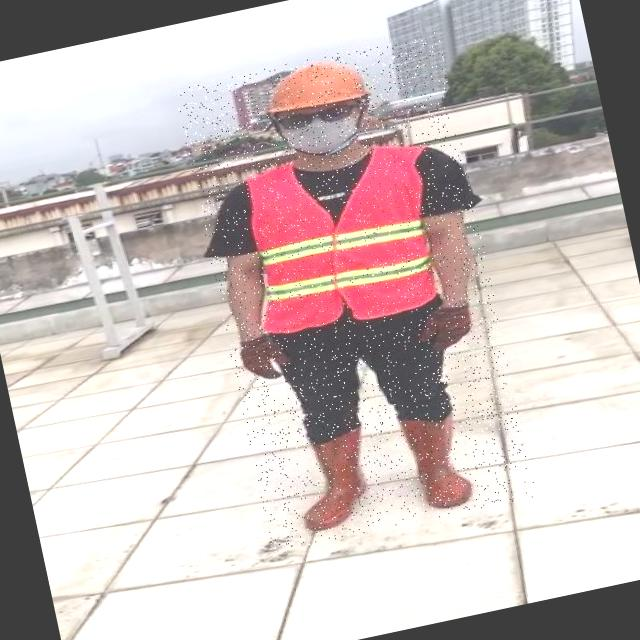boots: (286, 420, 388, 534), (397, 406, 478, 513)
helmet: (252, 52, 373, 122)
vest: (238, 132, 459, 337)
